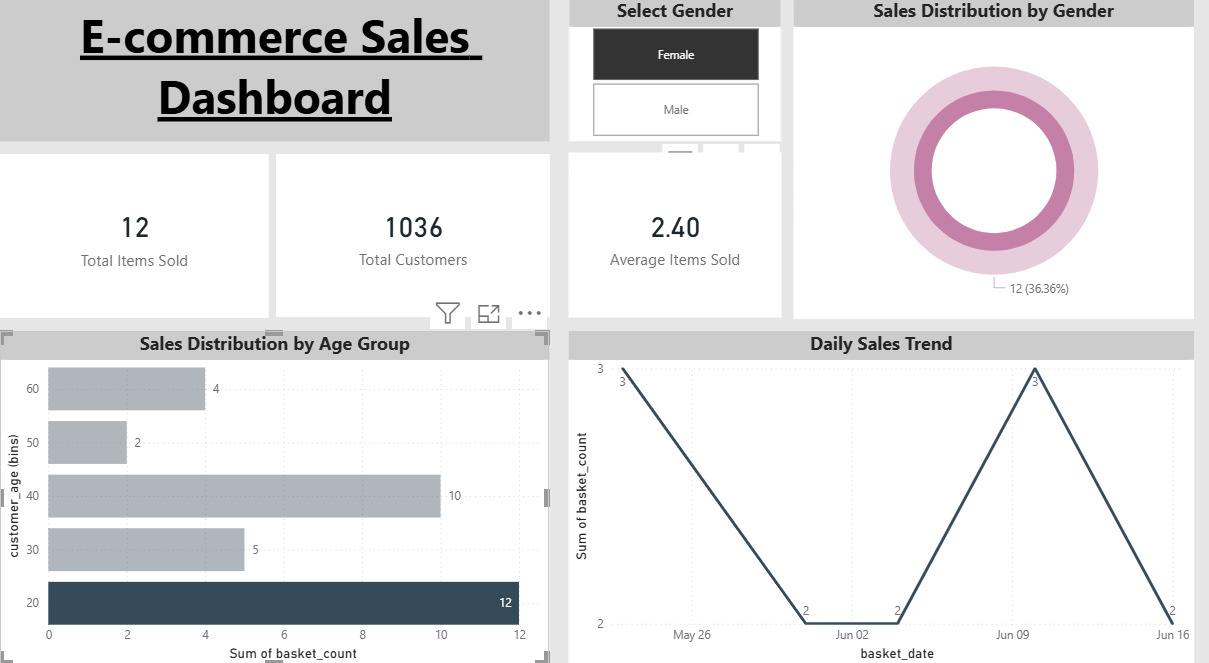

This screenshot's page, from the dashboard's own definition file:
{"tool":"powerbi","page":{"name":"Page 1","canvas":[1280,720],"ordinal":0},"visuals":[{"type":"card","fields":{"Values":["Sum(ecommerce_db basket_details.basket_count)"]},"box":[18.8,175.1,279.8,170.4],"z":0},{"type":"card","fields":{"Values":["Count(ecommerce_db customer_details.customer_id)"]},"box":[306.1,175.7,285.4,170.1],"z":1000},{"type":"donutChart","title":"Sales Distribution by Gender ","fields":{"Category":["ecommerce_db customer_details.sex"],"Y":["Sum(ecommerce_db basket_details.basket_count)"]},"box":[845.6,12.5,417.3,334.5],"z":2000},{"type":"lineChart","title":"Daily Sales Trend","fields":{"Category":["ecommerce_db basket_details.basket_date"],"Y":["Sum(ecommerce_db basket_details.basket_count)"]},"box":[610.4,359.1,652,347.7],"z":3000},{"type":"slicer","title":"Select Gender","fields":{"Values":["ecommerce_db customer_details.sex"]},"box":[611.1,12.5,221.9,150],"z":4000},{"type":"textbox","box":[18.9,13.2,572.6,149.3],"z":5000},{"type":"clusteredBarChart","title":"Sales Distribution by Age Group","fields":{"Category":["ecommerce_db customer_details.customer_age (bins)"],"Y":["Sum(ecommerce_db basket_details.basket_count)"]},"box":[18.9,359.1,572.6,347.7],"z":6000},{"type":"card","fields":{"Values":["Avg(ecommerce_db basket_details.basket_count)"]},"box":[611.1,173.5,221.9,171.9],"z":7000}]}

Visuals, with their boxes in screenshot pixels (x1, y1, x2, y2), scaled from the page's 1280x720 canvas onto the 1209x663 screenshot:
card - Sum(ecommerce_db basket_details.basket_count): rect(18, 161, 282, 318)
card - Count(ecommerce_db customer_details.customer_id): rect(289, 162, 559, 318)
"Sales Distribution by Gender " donutChart: rect(799, 12, 1193, 320)
"Daily Sales Trend" lineChart: rect(577, 331, 1192, 651)
"Select Gender" slicer: rect(577, 12, 787, 150)
textbox: rect(18, 12, 559, 150)
"Sales Distribution by Age Group" clusteredBarChart: rect(18, 331, 559, 651)
card - Avg(ecommerce_db basket_details.basket_count): rect(577, 160, 787, 318)
